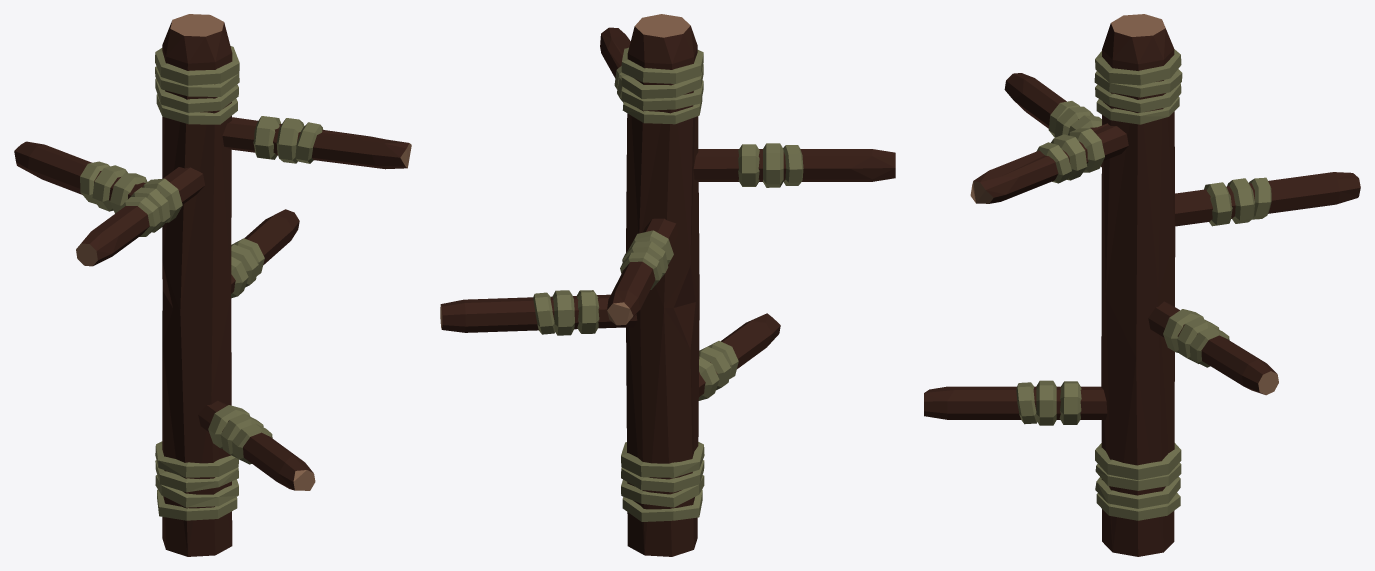
Rendered from Manekin Asia.fbx.
3 views of the same model, side by side, from view 1: azimuth 30°, elevation 25°; view 2: azimuth 150°, elevation 25°; view 3: azimuth 270°, elevation 25° (orthographic).
Visible parts, largest first — view 1: Manekin; view 2: Manekin; view 3: Manekin.
Boxes of the visible parts, x1,y1,x2,y2 form: Manekin: (14,14,411,556); Manekin: (440,14,895,556); Manekin: (924,14,1360,556).
Size of the model in its own units: 1.11 by 1.62 by 1.24.
